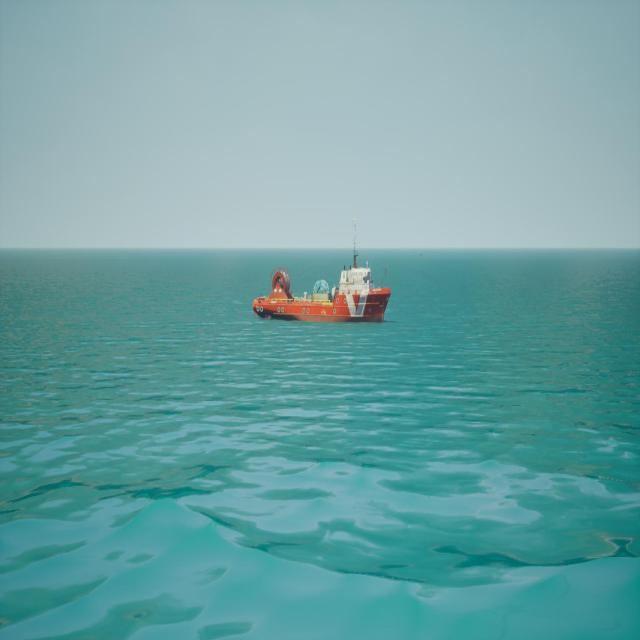tug boat: (255, 222, 393, 325)
